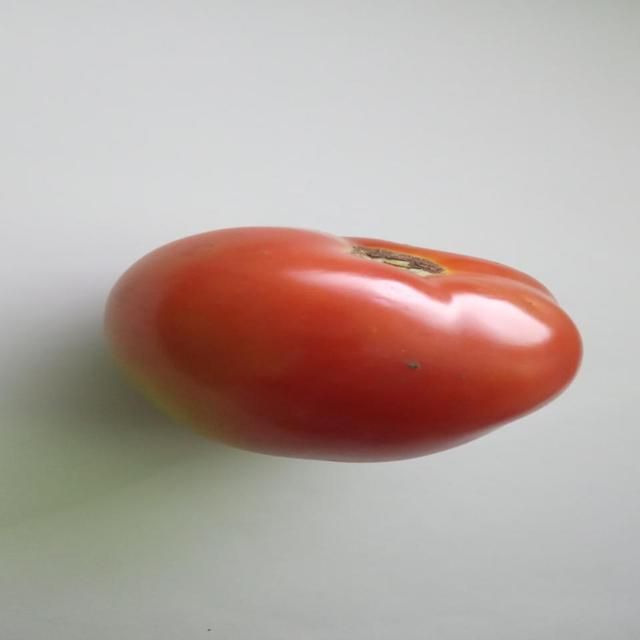Healthy Fruit: (60, 147, 396, 311)
